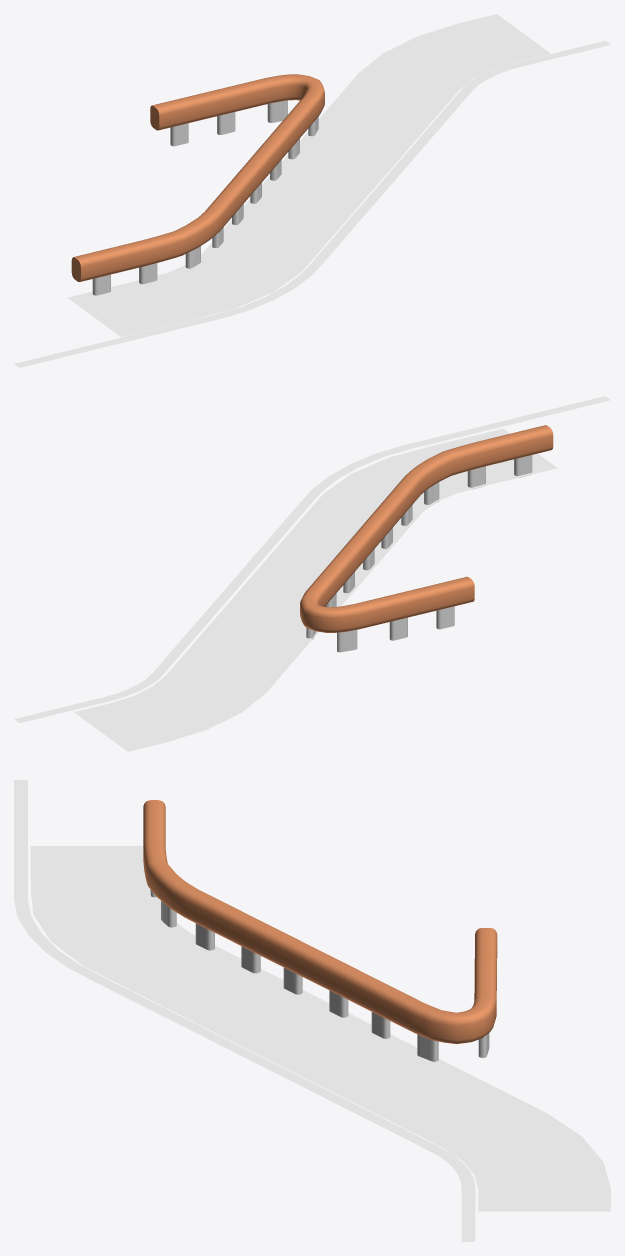
Rendered from roads_connection.fbx.
3 views of the same model, one above another, from view 1: azimuth 30°, elevation 25°; view 2: azimuth 210°, elevation 25°; view 3: azimuth 270°, elevation 25° (orthographic). The views are drawn at different scales.
Visible parts, largest first — view 1: Road__6_.006, Railling.001, Road__6_.009; view 2: Road__6_.006, Railling.001, Road__6_.009; view 3: Road__6_.006, Railling.001, Road__6_.009.
Part boxes in pixels (bbox=[...]): Road__6_.006: bbox=[67, 14, 550, 337]; Railling.001: bbox=[71, 74, 324, 295]; Road__6_.009: bbox=[14, 41, 610, 367]; Road__6_.006: bbox=[74, 428, 557, 751]; Railling.001: bbox=[300, 425, 553, 652]; Road__6_.009: bbox=[14, 396, 610, 722]; Road__6_.006: bbox=[30, 846, 610, 1211]; Railling.001: bbox=[143, 800, 497, 1061]; Road__6_.009: bbox=[14, 780, 475, 1241].
Size of the model in its own units: 2811 by 147 by 1536.
